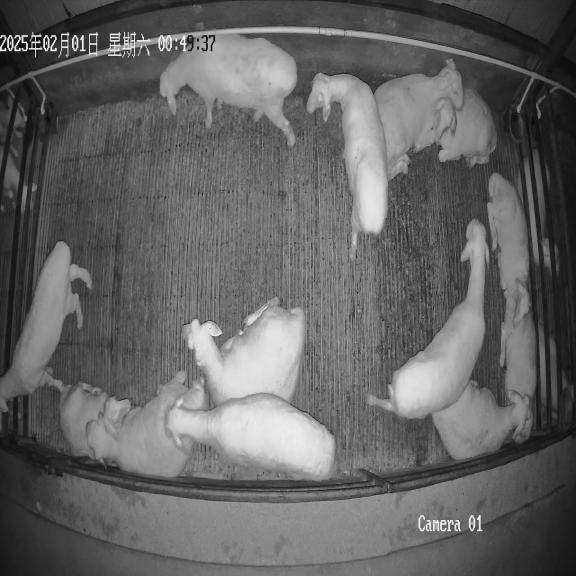lying: (182, 298, 306, 404), (87, 371, 208, 478), (374, 59, 464, 180), (432, 380, 525, 460), (487, 173, 529, 306), (59, 382, 130, 458), (438, 88, 497, 167), (504, 305, 536, 400)
stand: (367, 220, 489, 419), (0, 241, 92, 412), (160, 34, 297, 146), (306, 73, 388, 260), (166, 393, 336, 481)
